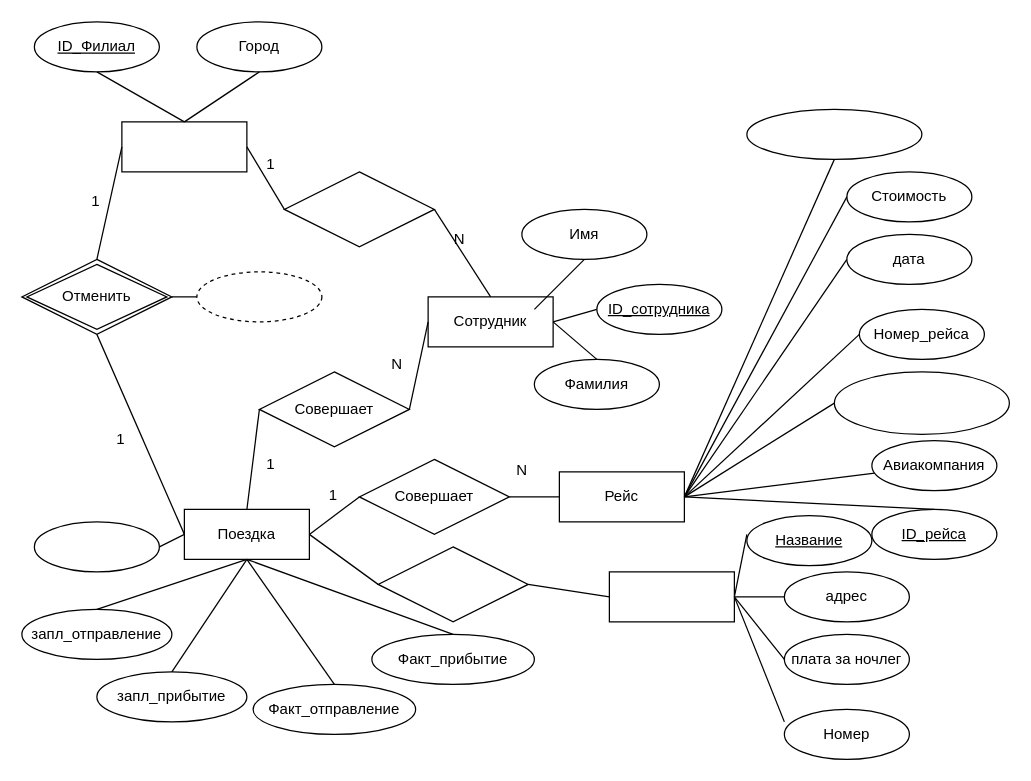
Image size: 1031x781. Some labels were removed from this diagram. Each missing label, with the centre of its shape:
ID_поездки: pixel 96 546
Город_отправления: pixel 834 133
Город_прибытия: pixel 921 402
дата_отмены: pixel 259 296
Имеет: pixel 452 584
Отель: pixel 671 596
Работает: pixel 358 209
Филиал: pixel 184 146
